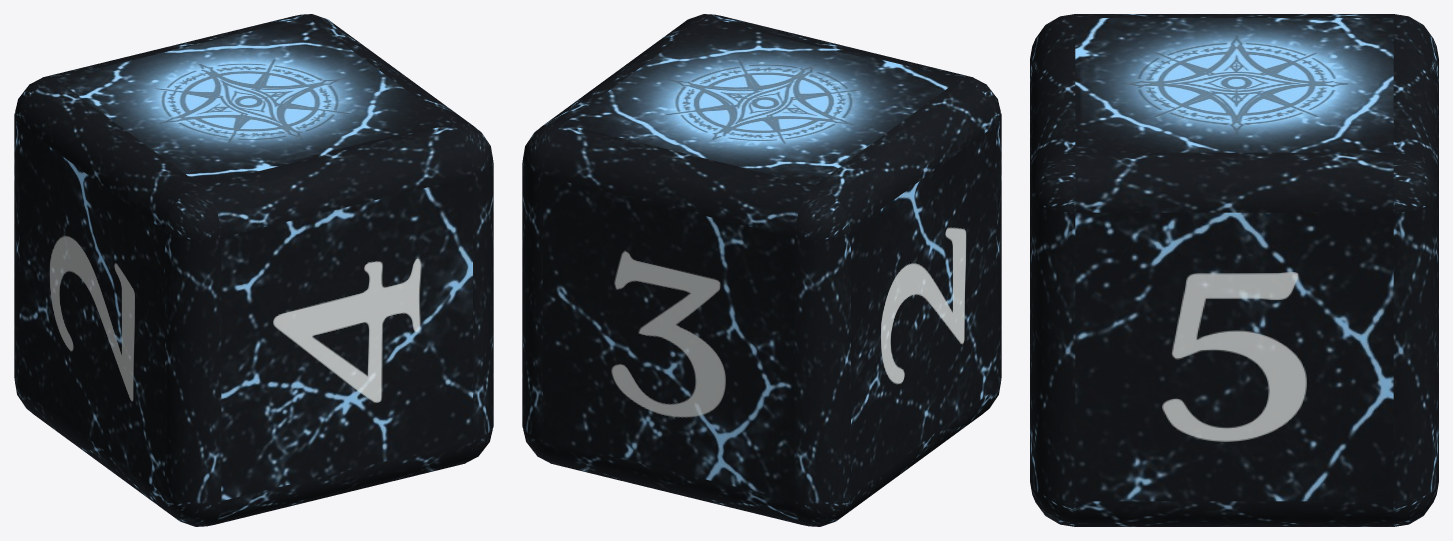
File: d6_gear.glb
The picture shows the model from 3 angles, left to right: view 1: azimuth 30°, elevation 25°; view 2: azimuth 150°, elevation 25°; view 3: azimuth 270°, elevation 25°; orthographic projection. The views are drawn at different scales.
Visible parts, largest first — view 1: d6; view 2: d6; view 3: d6.
Boxes of the visible parts, x1,y1,x2,y2 form: d6: (14, 14, 493, 526); d6: (522, 14, 1001, 526); d6: (1030, 14, 1438, 526).
Size of the model in its own units: 104 by 104 by 104.
1 material, 1 textured.
